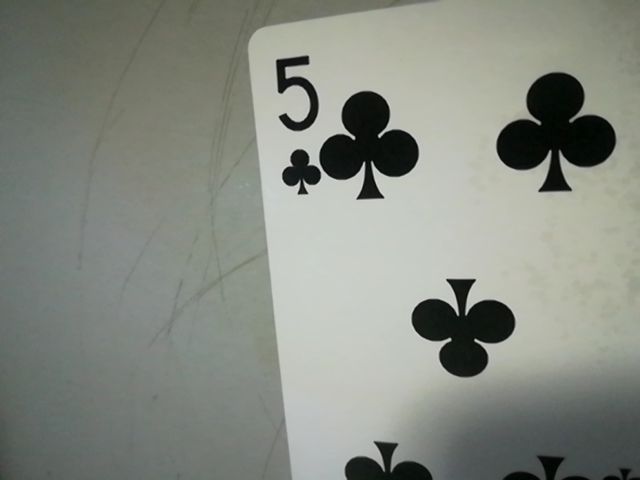mh 5: (261, 44, 324, 202)
